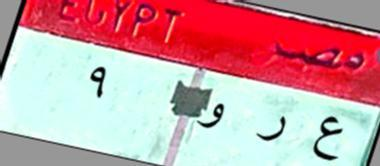9: (83, 59, 112, 108)
ain: (308, 107, 344, 166)
raa: (254, 108, 288, 148)
waw: (194, 94, 228, 141)
